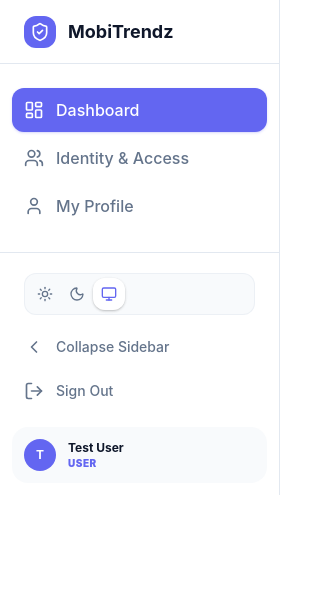
Test: Sidebar › toggles collapse state when collapse button is clicked
Click the button "Collapse Sidebar": (140, 347) [12,327,267,367]
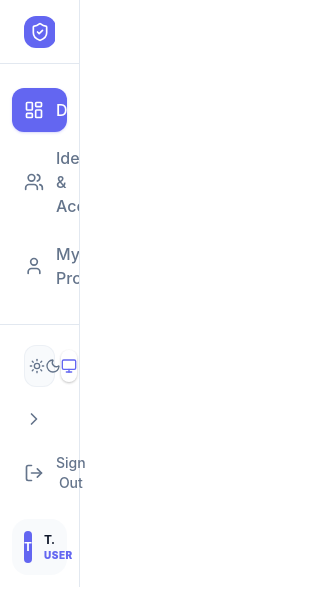
Check: the text "Collapse Sidebar" is gone
Click the 4th button: (40, 419) [12,399,67,439]
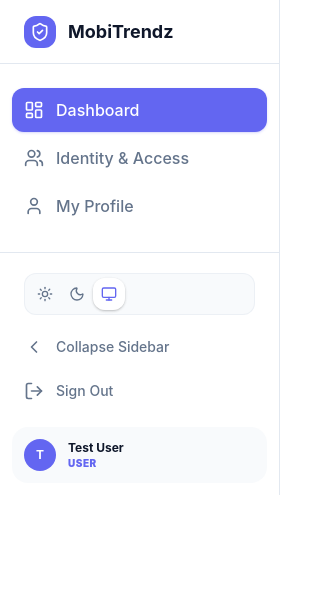
Check: the text "Collapse Sidebar" is shown, box [56,337,170,357]
